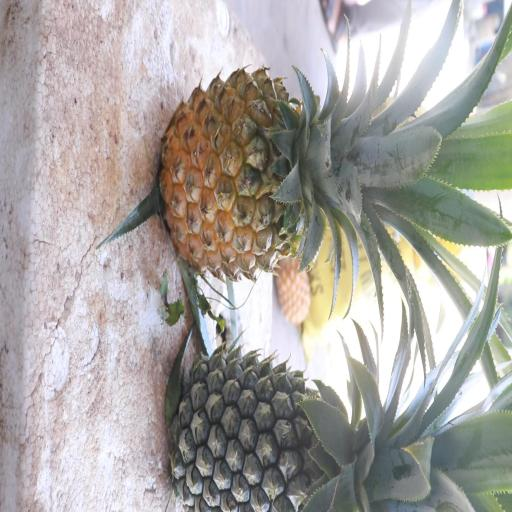Pineapple - v8 v1: (160, 54, 450, 304)
